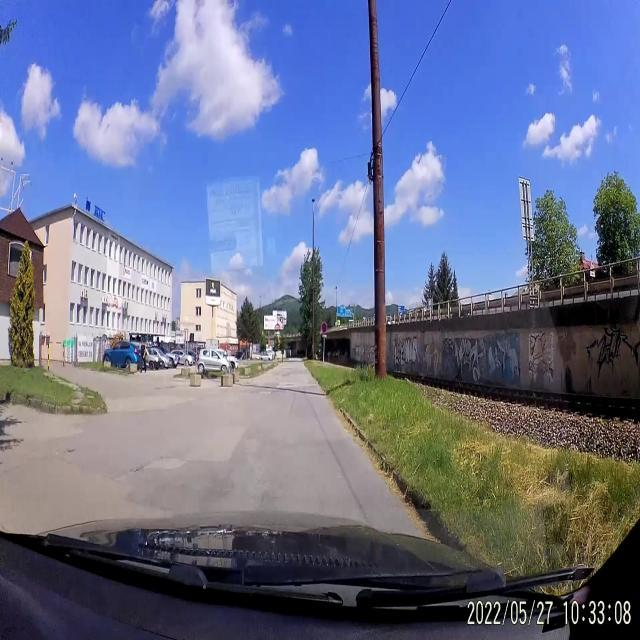Pothole: (110, 468, 126, 490), (128, 462, 148, 476), (62, 446, 82, 456), (284, 384, 298, 391)
